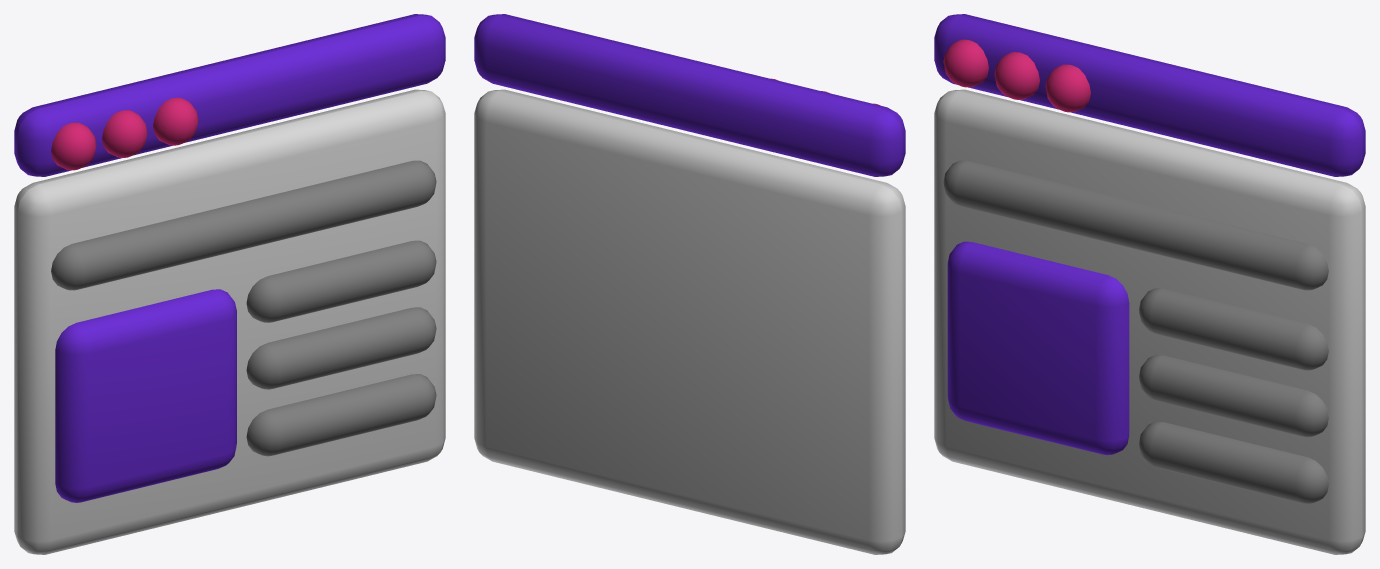
The model's file is BP_icons.gltf.
The picture shows the model from 3 angles, left to right: view 1: azimuth 30°, elevation 25°; view 2: azimuth 150°, elevation 25°; view 3: azimuth 330°, elevation 25°; orthographic projection.
Parts seen in each view (by area): view 1: base, left, right, upper, dots; view 2: base; view 3: base, left, right, upper, dots.
Part boxes in pixels (x1,y1,x2,y2): base: [14, 14, 445, 554]; left: [55, 289, 236, 502]; right: [246, 240, 436, 456]; upper: [51, 160, 436, 290]; dots: [51, 97, 198, 170]; base: [474, 14, 905, 554]; base: [934, 14, 1365, 554]; left: [947, 241, 1129, 455]; right: [1139, 288, 1328, 503]; upper: [943, 160, 1328, 290]; dots: [943, 39, 1090, 112].
Size of the model in its own units: 1 by 1 by 0.15.
